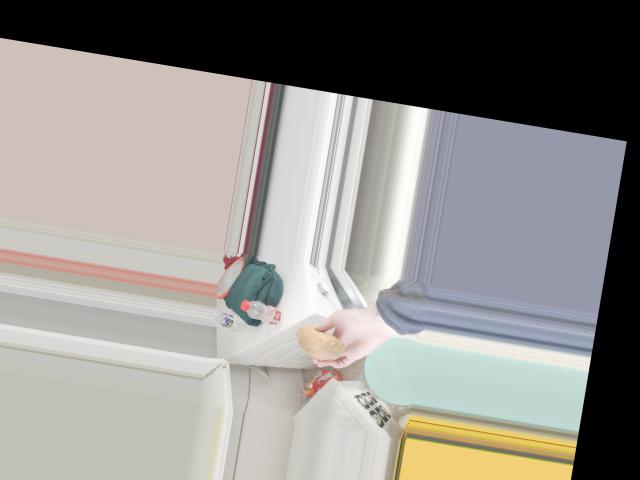sweet_potato: (292, 328, 353, 362)
